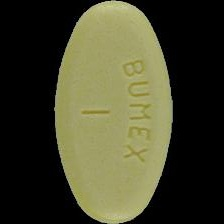42799-120: (0, 0, 224, 224)
